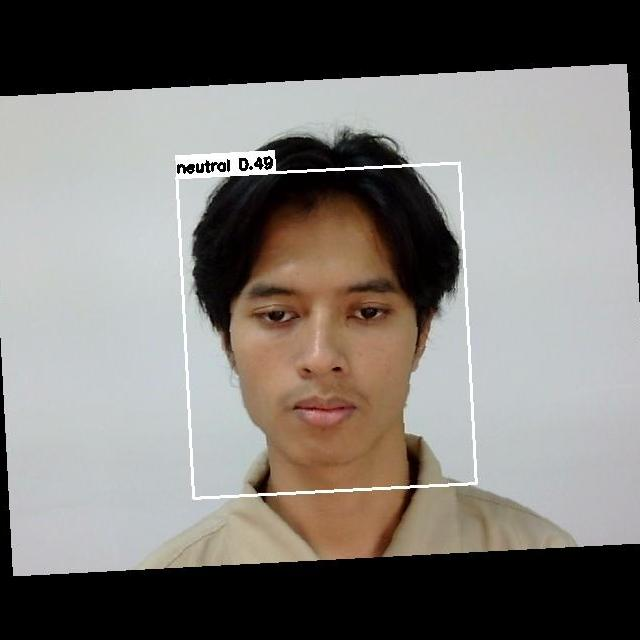Natural: (233, 262, 428, 439)
